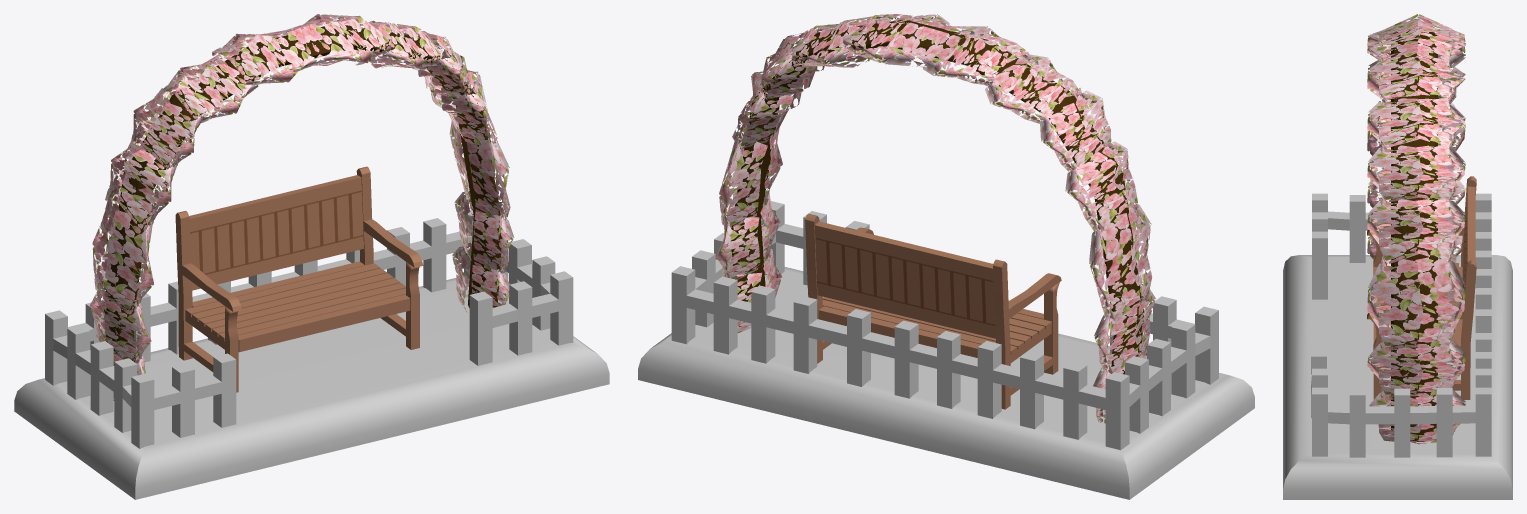
The model's file is cherry_blossom_bench.fbx.
The picture shows the model from 3 angles, left to right: view 1: azimuth 30°, elevation 25°; view 2: azimuth 150°, elevation 25°; view 3: azimuth 270°, elevation 25°; orthographic projection. The views are drawn at different scales.
Parts seen in each view (by area): view 1: pTorus4; view 2: pTorus4; view 3: pTorus4.
Part boxes in pixels (<box>): pTorus4: <box>14,14,609,499</box>; pTorus4: <box>638,14,1254,499</box>; pTorus4: <box>1283,14,1512,499</box>.
Size of the model in its own units: 5.45 by 3.99 by 2.41.
